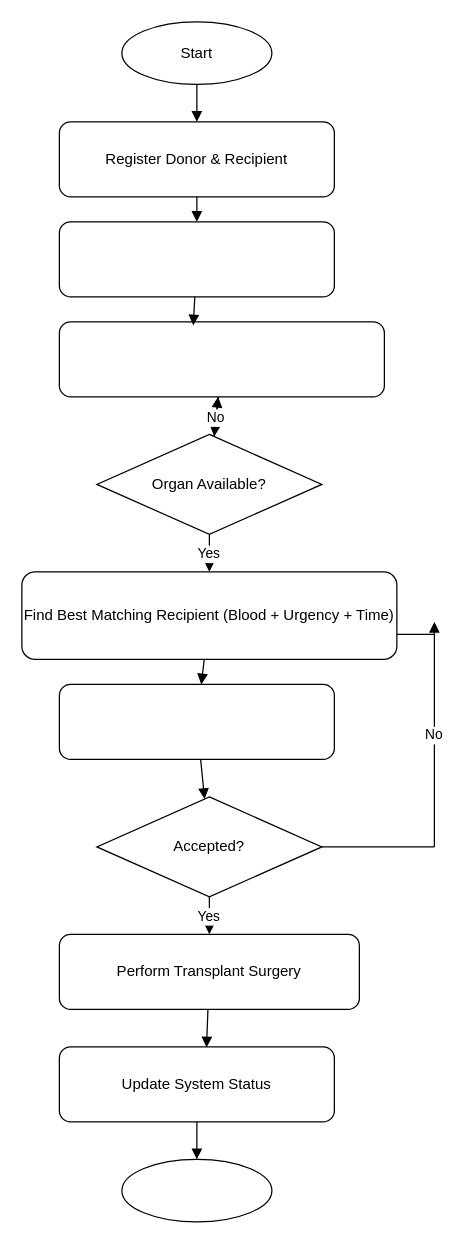
Some shapes in this 466 by 1244 pixel diagram are drawn without their labels. Each missing label, with the centre of its shape:
"End" belongs at (x=196, y=1190).
"Maintain Waiting List (Priority Queue)" belongs at (x=221, y=359).
"Send Organ Offer" belongs at (x=196, y=721).
"Store Data in Database" belongs at (x=196, y=259).
